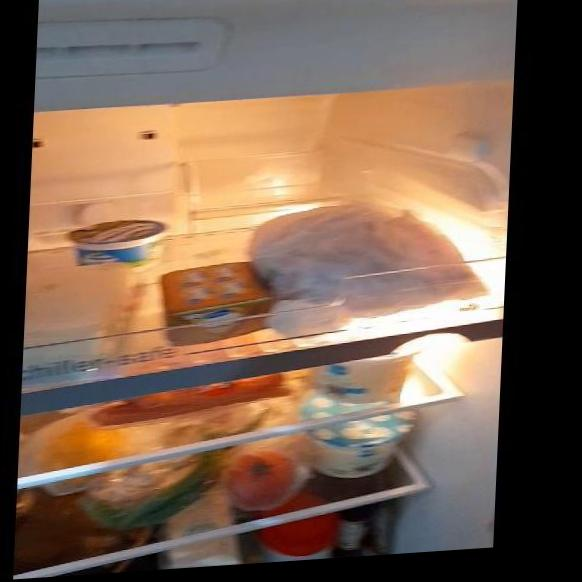butter: (158, 260, 273, 337)
carrot: (113, 377, 284, 427)
cheese: (27, 269, 135, 366)
green chilies: (89, 467, 220, 533)
lemon: (34, 423, 124, 489)
sauce: (337, 493, 372, 556)
tomato: (228, 451, 298, 504)
yoghurt: (301, 405, 410, 477), (313, 356, 414, 407), (70, 216, 169, 268)
